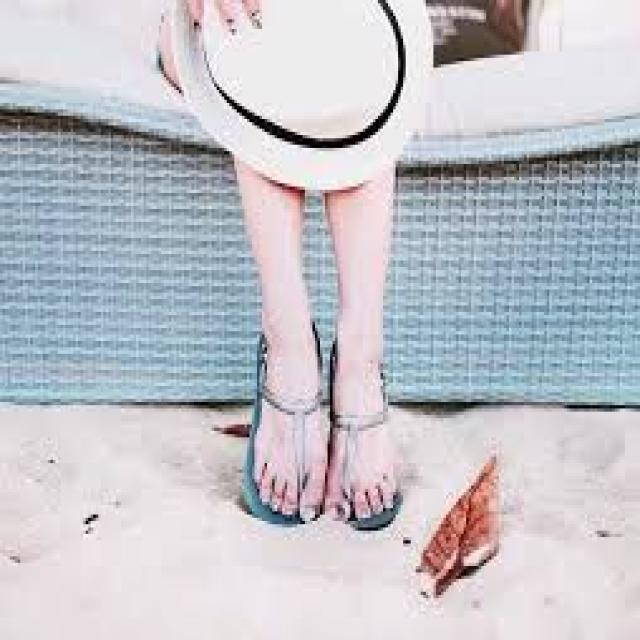Sandals: (213, 294, 420, 554)
